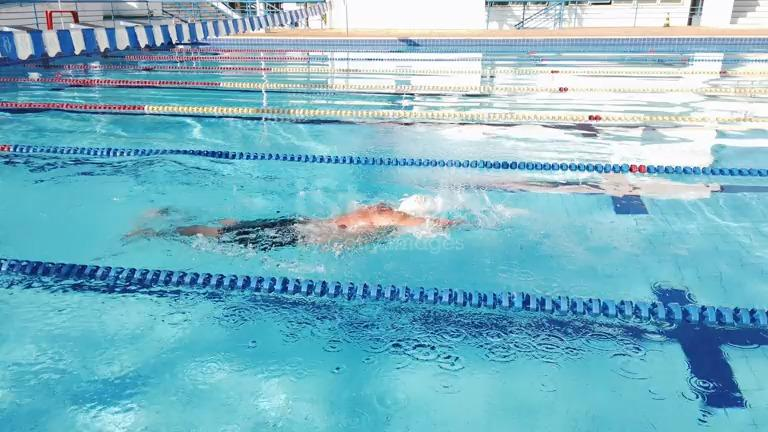Swimming: (119, 198, 467, 256)
